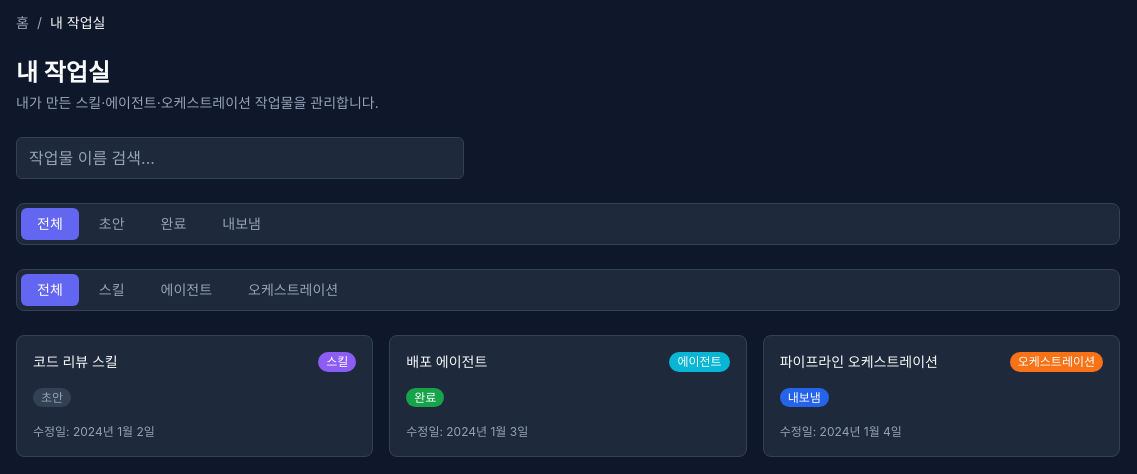
Test: Workspace Integration › 시나리오 2: 상태 필터 › "내보냄" 탭 클릭 시 내보낸 작업물만 표시된다
Expected: the heading "코드 리뷰 스킬" is shown, [33,353,118,370]
Click the 내보냄 status tab
Step 1. Click the tab "내보냄" → click(242, 224), box [206,208,277,240]
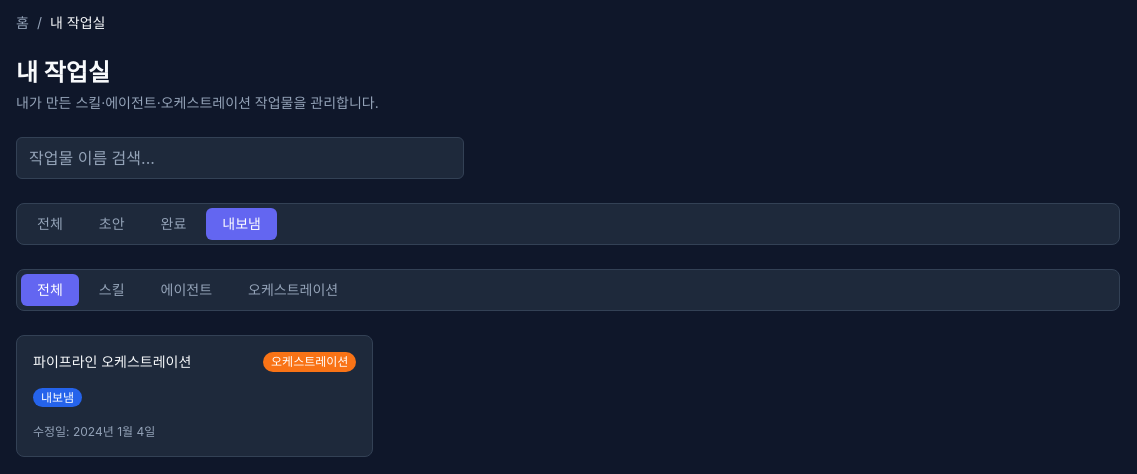
Expected: the heading "파이프라인 오케스트레이션" is shown, [33,353,191,370]
Result: the link "코드 리뷰 스킬" is gone
Result: the link "배포 에이전트" is gone
